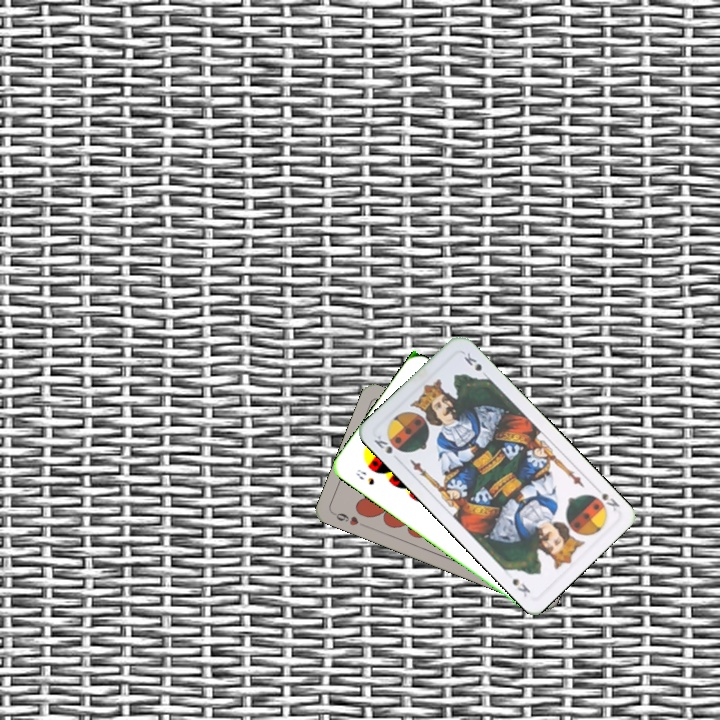H9: (329, 508, 368, 530)
S8: (352, 465, 377, 488)
SK: (586, 483, 622, 515), (370, 431, 395, 456)
